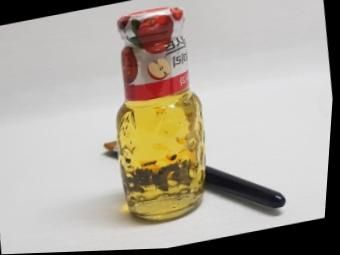glass: (104, 6, 205, 221)
